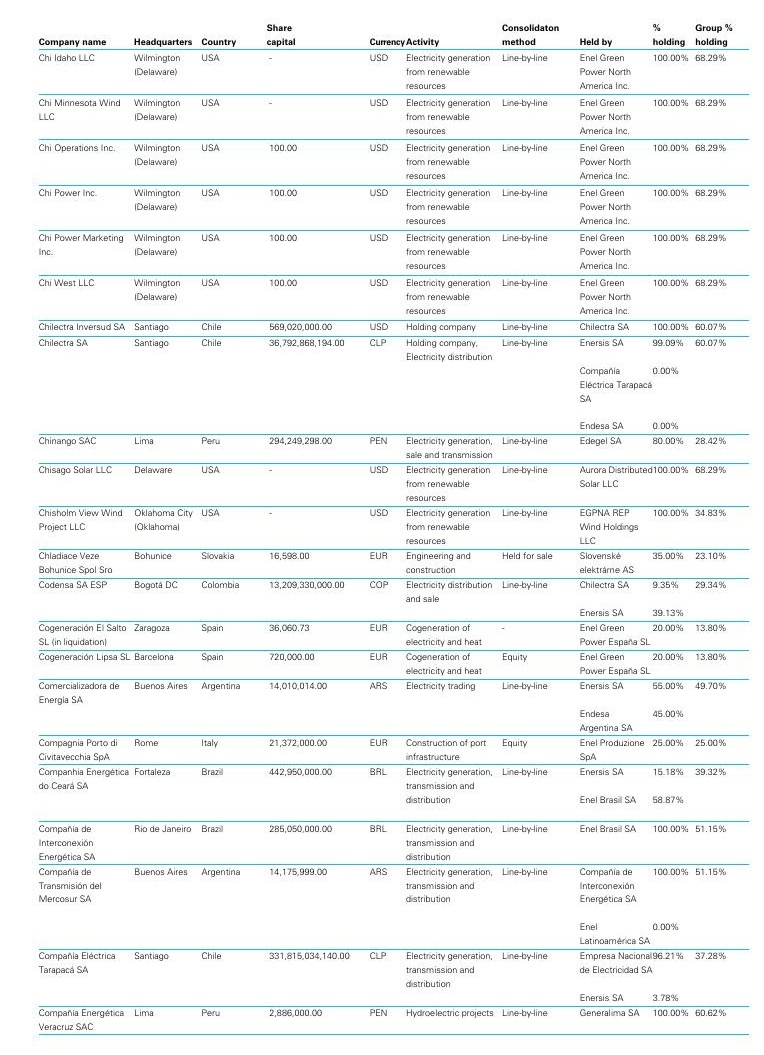table: (0, 0, 764, 1055)
